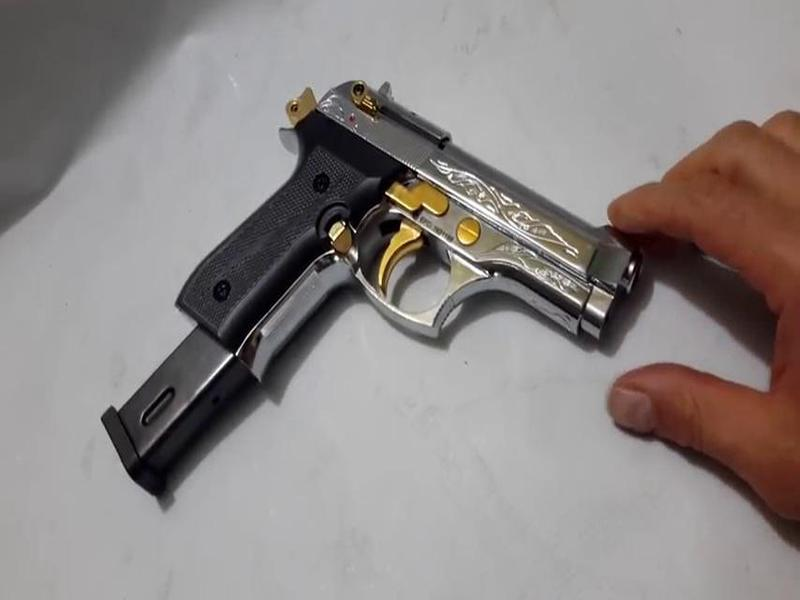Pistola: (162, 73, 622, 387)
